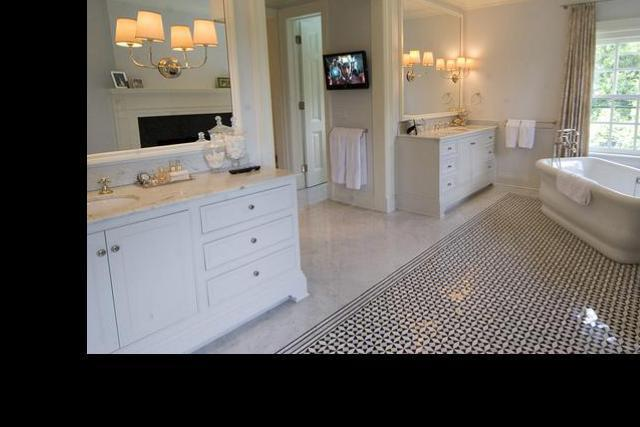Lavamanos: (86, 172, 142, 220)
